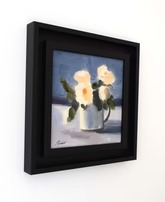painting: (51, 50, 123, 149)
